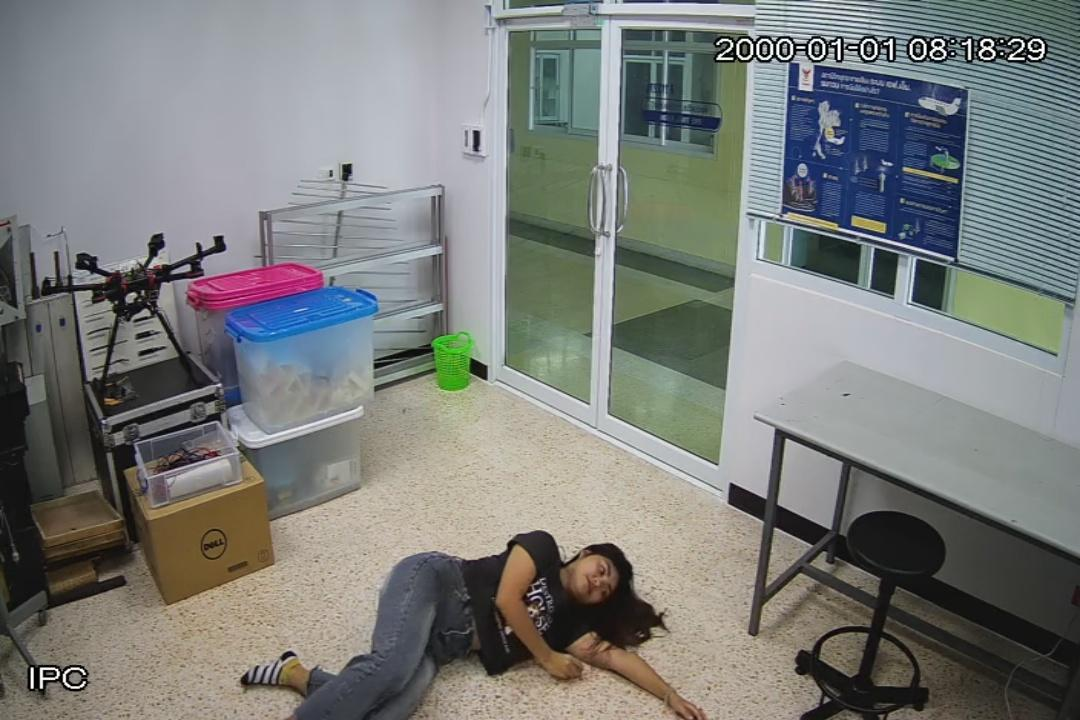fall: (253, 529, 706, 720)
